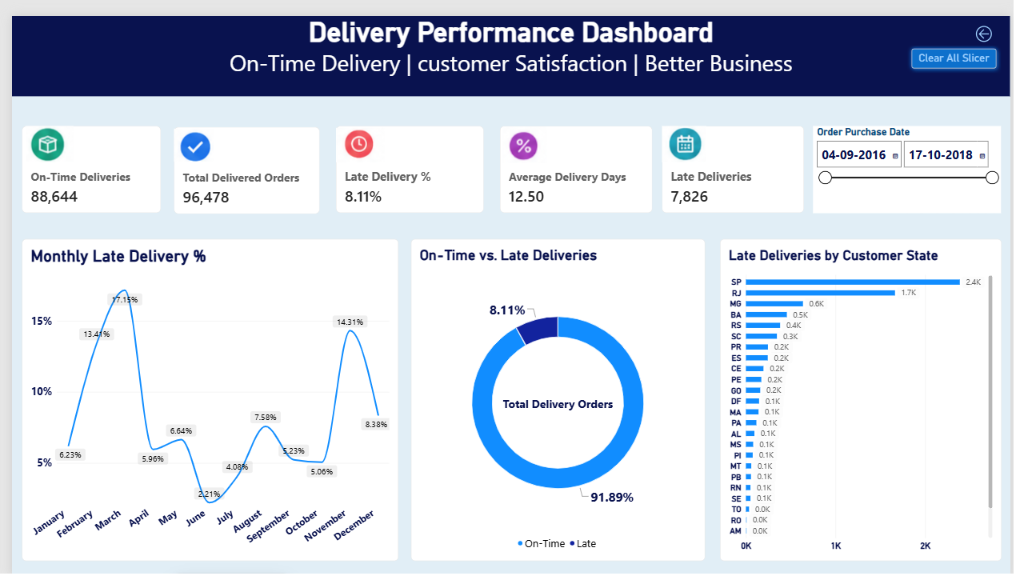

The page's visual inventory and layout, read from the dashboard file:
{"tool":"powerbi","page":{"name":"Delivery Overview","canvas":[1920,1080],"ordinal":1},"visuals":[{"type":"cardVisual","fields":{"Data":["Orders.Total Delivered Orders"]},"box":[310.9,213,280.4,167.4],"z":0},{"type":"cardVisual","fields":{"Data":["Orders.On-Time Deliveries"]},"box":[19.6,210.9,267.4,167.4],"z":1000},{"type":"cardVisual","fields":{"Data":["Orders.Late Delivery %"]},"box":[623.9,210.9,284.8,167.4],"z":2000},{"type":"cardVisual","fields":{"Data":["Orders.Late Deliveries"]},"box":[1250,210.9,273.9,167.4],"z":3000},{"type":"cardVisual","fields":{"Data":["Orders.Average Delivery Days"]},"box":[939.1,210.9,293.5,167.4],"z":4000},{"type":"lineChart","title":"Monthly Late Delivery %","fields":{"Category":["Orders.Order Month.Variation.Date Hierarchy.Month"],"Y":["Orders.Late Delivery %"]},"box":[19.6,428.3,723.9,619.6],"z":5000},{"type":"donutChart","title":"On-Time vs. Late Deliveries","fields":{"Category":["Delivery Status.Status"],"Y":["Delivery Status.Delivery Status Count"]},"box":[767.4,428.3,565.2,619.6],"z":6000},{"type":"clusteredBarChart","title":"Late Deliveries by Customer State ","fields":{"Category":["Customers.customer_state"],"Y":["Orders.Late Deliveries"]},"box":[1360.9,428.3,541.3,619.6],"z":7000},{"type":"textbox","box":[0,0,1919.6,154.3],"z":8000},{"type":"slicer","fields":{"Values":["Orders.order_purchase_timestamp"]},"box":[1541.3,210.9,360.9,167.4],"z":9000},{"type":"image","box":[19.6,210.9,106.5,69.6],"z":10000},{"type":"image","box":[310.9,213,76.1,69.6],"z":11000},{"type":"image","box":[623.9,213,93.5,69.6],"z":12000},{"type":"image","box":[939.1,213,95.7,69.6],"z":13000},{"type":"image","box":[1250,210.9,84.8,69.6],"z":14000},{"type":"actionButton","box":[1819.2,13.5,100,40],"z":14001},{"type":"actionButton","box":[1721.2,53.8,180.8,55.8],"z":14002}]}

Visuals, with their boxes in screenshot pixels (x1, y1, x2, y2), scaled from the page's 1920x1080 canvas onto the 1014x574 screenshot:
cardVisual - Orders.Total Delivered Orders: [left=164, top=113, right=312, bottom=202]
cardVisual - Orders.On-Time Deliveries: [left=10, top=112, right=152, bottom=201]
cardVisual - Orders.Late Delivery %: [left=329, top=112, right=480, bottom=201]
cardVisual - Orders.Late Deliveries: [left=660, top=112, right=805, bottom=201]
cardVisual - Orders.Average Delivery Days: [left=496, top=112, right=651, bottom=201]
"Monthly Late Delivery %" lineChart: [left=10, top=228, right=393, bottom=557]
"On-Time vs. Late Deliveries" donutChart: [left=405, top=228, right=704, bottom=557]
"Late Deliveries by Customer State " clusteredBarChart: [left=719, top=228, right=1005, bottom=557]
textbox: [left=0, top=0, right=1013, bottom=82]
slicer - Orders.order_purchase_timestamp: [left=814, top=112, right=1005, bottom=201]
image: [left=10, top=112, right=67, bottom=149]
image: [left=164, top=113, right=204, bottom=150]
image: [left=329, top=113, right=379, bottom=150]
image: [left=496, top=113, right=547, bottom=150]
image: [left=660, top=112, right=705, bottom=149]
actionButton: [left=961, top=7, right=1013, bottom=28]
actionButton: [left=909, top=29, right=1004, bottom=58]
